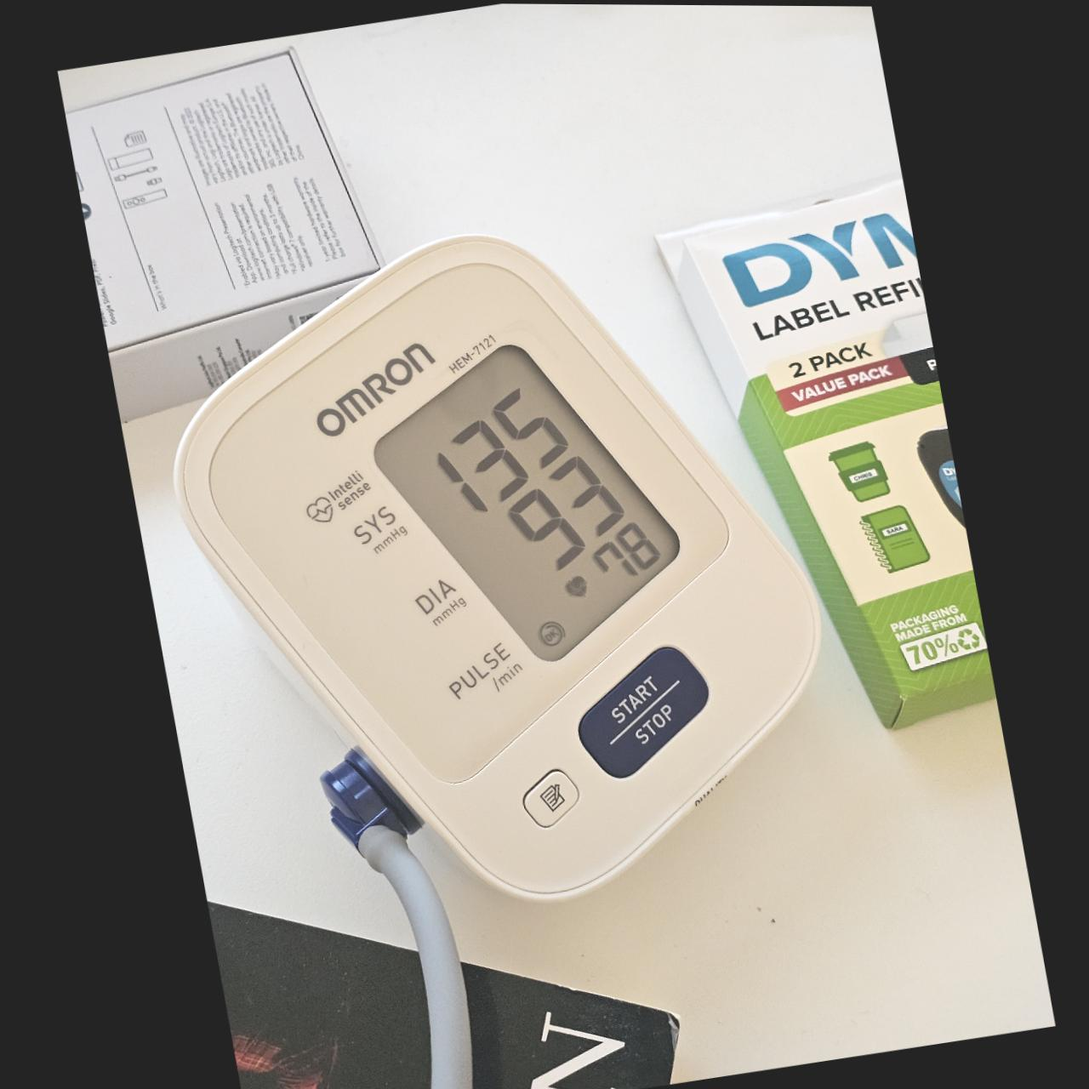lcd display: (355, 320, 702, 687)
